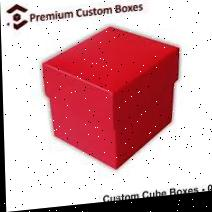cube: (40, 23, 182, 178)
